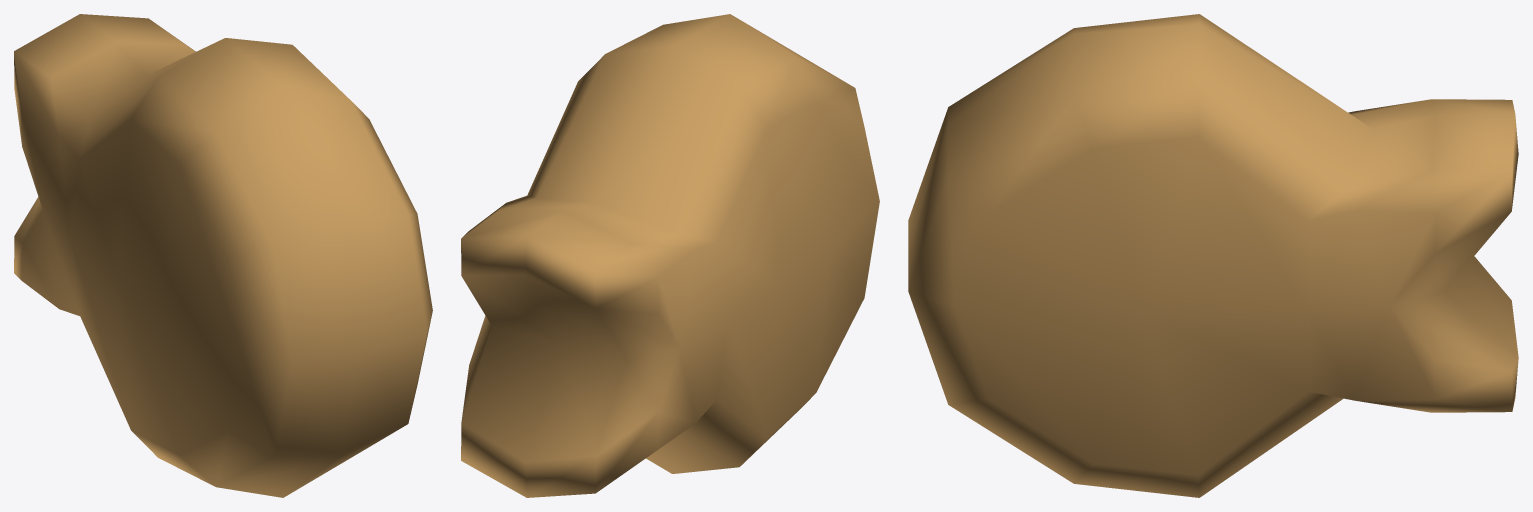
The model's file is SM_Placeholder_Fish_Collectable_Blobb.fbx.
The picture shows the model from 3 angles, left to right: view 1: azimuth 30°, elevation 25°; view 2: azimuth 150°, elevation 25°; view 3: azimuth 270°, elevation 25°; orthographic projection. The views are drawn at different scales.
Visible parts, largest first — view 1: Cube; view 2: Cube; view 3: Cube.
Part boxes in pixels (<box>): Cube: <box>14,14,432,497</box>; Cube: <box>461,14,879,497</box>; Cube: <box>908,14,1518,497</box>.
Size of the model in its own units: 18.88 by 35.2 by 42.02.
